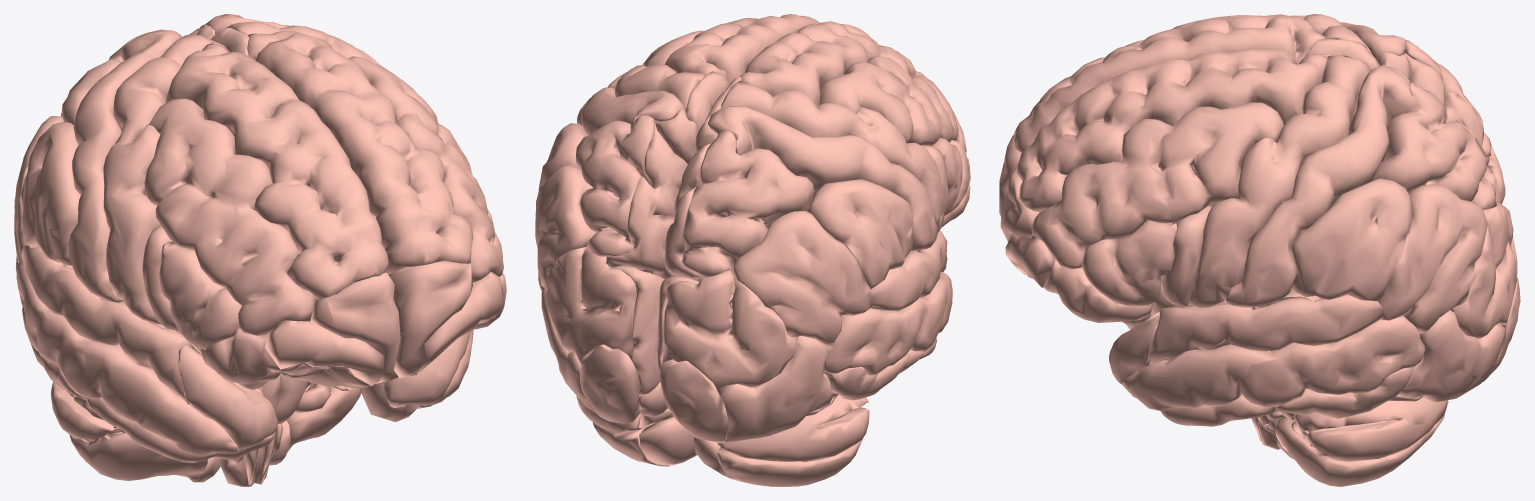
The model's file is 3d-vh-m-allen-brain.glb.
3 renders of one model, left to right at view 1: azimuth 30°, elevation 25°; view 2: azimuth 150°, elevation 25°; view 3: azimuth 270°, elevation 25°, orthographic. The views are drawn at different scales.
Visible parts, largest first — view 1: Allen_superior_frontal_gyrus_L, Allen_middle_frontal_gyrus_L, Allen_superior_frontal_gyrus_R, Allen_middle_temporal_gyrus_L, Allen_precentral_gyrus_L, Allen_postcentral_gyrus_L, Allen_superior_temporal_gyrus_L, Allen_middle_frontal_gyrus_R, Allen_supramarginal_gyrus_L, Allen_rostral_gyrus_R, Allen_lateral_hemisphere_of_cerebellum_L, Allen_inferior_frontal_gyrus_triangular_part_L (+19 smaller); view 2: Allen_supraparietal_lobule_L, Allen_angular_gyrus_L, Allen_superior_occipital_gyrus_L, Allen_postcentral_gyrus_L, Allen_lateral_hemisphere_of_cerebellum_L, Allen_superior_occipital_gyrus_R, Allen_supraparietal_lobule_R, Allen_precentral_gyrus_L, Allen_supramarginal_gyrus_L, Allen_middle_frontal_gyrus_L, Allen_superior_frontal_gyrus_L, Allen_middle_temporal_gyrus_L (+24 smaller); view 3: Allen_middle_frontal_gyrus_R, Allen_superior_frontal_gyrus_R, Allen_middle_temporal_gyrus_R, Allen_precentral_gyrus_R, Allen_postcentral_gyrus_R, Allen_supramarginal_gyrus_R, Allen_angular_gyrus_R, Allen_superior_temporal_gyrus_R, Allen_lateral_hemisphere_of_cerebellum_R, Allen_superior_frontal_gyrus_L, Allen_supraparietal_lobule_R, Allen_inferior_frontal_gyrus_triangular_part_R (+16 smaller).
Boxes of the visible parts, <box> form: Allen_superior_frontal_gyrus_L: <box>165,43,388,300</box>; Allen_middle_frontal_gyrus_L: <box>144,98,316,335</box>; Allen_superior_frontal_gyrus_R: <box>247,30,473,273</box>; Allen_middle_temporal_gyrus_L: <box>16,260,239,455</box>; Allen_precentral_gyrus_L: <box>103,34,210,324</box>; Allen_postcentral_gyrus_L: <box>68,29,181,302</box>; Allen_superior_temporal_gyrus_L: <box>21,245,194,404</box>; Allen_middle_frontal_gyrus_R: <box>348,56,503,282</box>; Allen_supramarginal_gyrus_L: <box>21,122,80,265</box>; Allen_rostral_gyrus_R: <box>389,260,472,378</box>; Allen_lateral_hemisphere_of_cerebellum_L: <box>51,381,207,480</box>; Allen_inferior_frontal_gyrus_triangular_part_L: <box>159,241,241,350</box>; Allen_supraparietal_lobule_L: <box>681,130,814,277</box>; Allen_angular_gyrus_L: <box>733,210,870,344</box>; Allen_superior_occipital_gyrus_L: <box>662,270,797,394</box>; Allen_postcentral_gyrus_L: <box>707,106,938,251</box>; Allen_lateral_hemisphere_of_cerebellum_L: <box>717,394,869,486</box>; Allen_superior_occipital_gyrus_R: <box>546,245,636,365</box>; Allen_supraparietal_lobule_R: <box>576,115,654,256</box>; Allen_precentral_gyrus_L: <box>721,80,945,232</box>; Allen_supramarginal_gyrus_L: <box>807,179,913,289</box>; Allen_middle_frontal_gyrus_L: <box>819,55,966,152</box>; Allen_superior_frontal_gyrus_L: <box>740,21,926,106</box>; Allen_middle_temporal_gyrus_L: <box>824,271,952,375</box>; Allen_middle_frontal_gyrus_R: <box>1032,102,1283,269</box>; Allen_superior_frontal_gyrus_R: <box>1016,49,1327,212</box>; Allen_middle_temporal_gyrus_R: <box>1122,315,1424,411</box>; Allen_precentral_gyrus_R: <box>1188,55,1371,307</box>; Allen_postcentral_gyrus_R: <box>1224,65,1419,307</box>; Allen_supramarginal_gyrus_R: <box>1290,178,1411,301</box>; Allen_angular_gyrus_R: <box>1378,184,1487,333</box>; Allen_superior_temporal_gyrus_R: <box>1147,294,1383,366</box>; Allen_lateral_hemisphere_of_cerebellum_R: <box>1266,397,1448,486</box>; Allen_superior_frontal_gyrus_L: <box>1013,14,1325,152</box>; Allen_supraparietal_lobule_R: <box>1370,82,1496,209</box>; Allen_inferior_frontal_gyrus_triangular_part_R: <box>1082,220,1176,306</box>.
Size of the model in its own units: 0.136 by 0.1459 by 0.1668.
